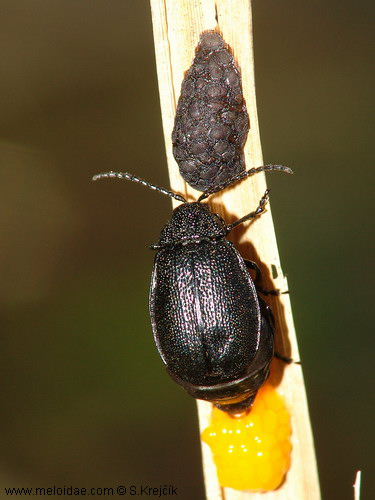Galeruca_tanaceti: (86, 160, 302, 417)
